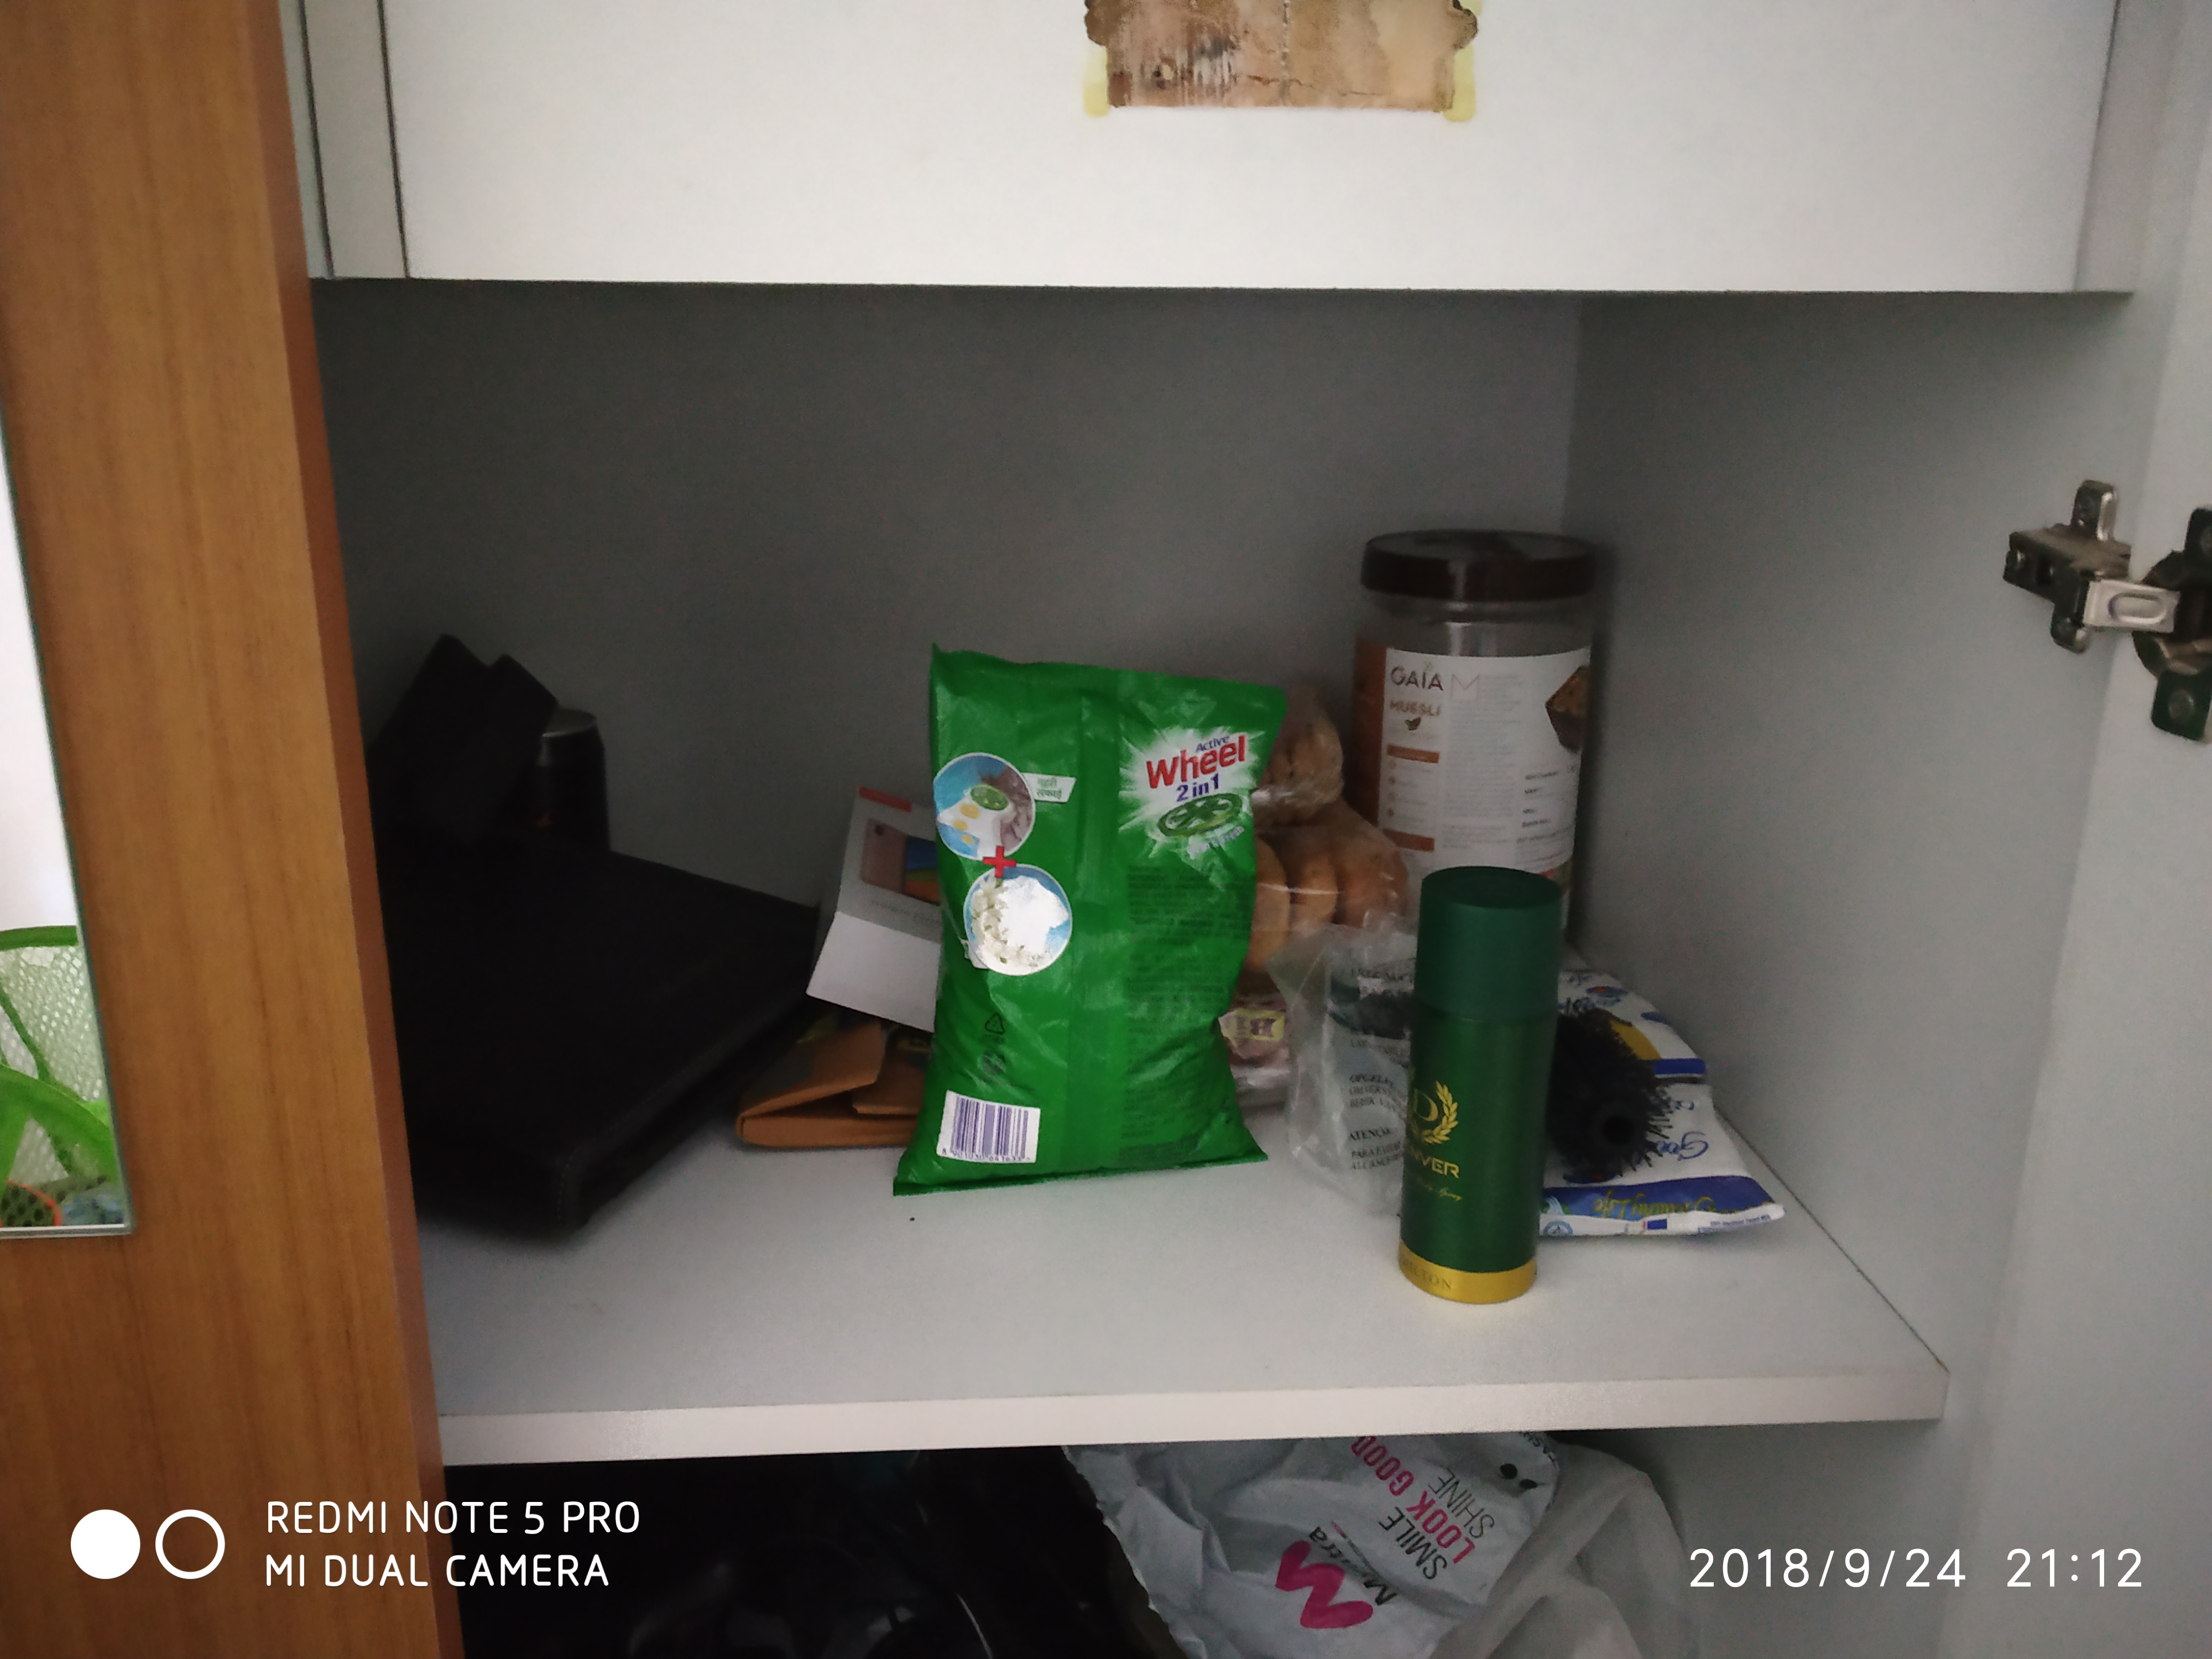detergent: (909, 628, 1283, 1186)
